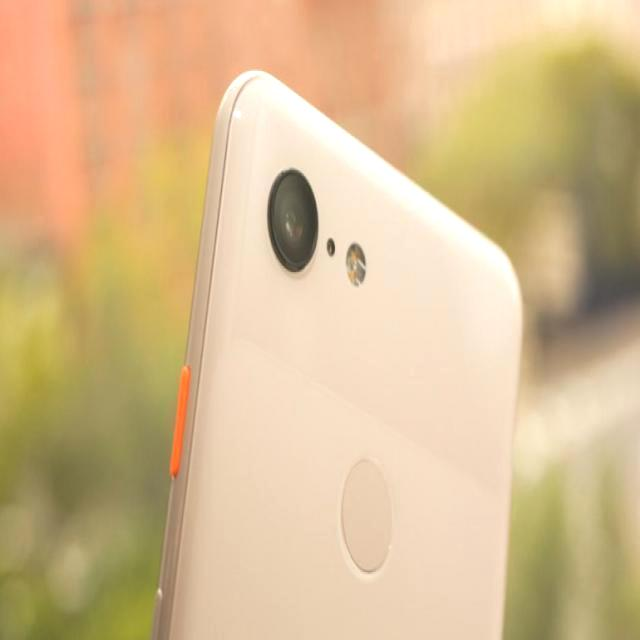phone: (163, 72, 514, 640)
